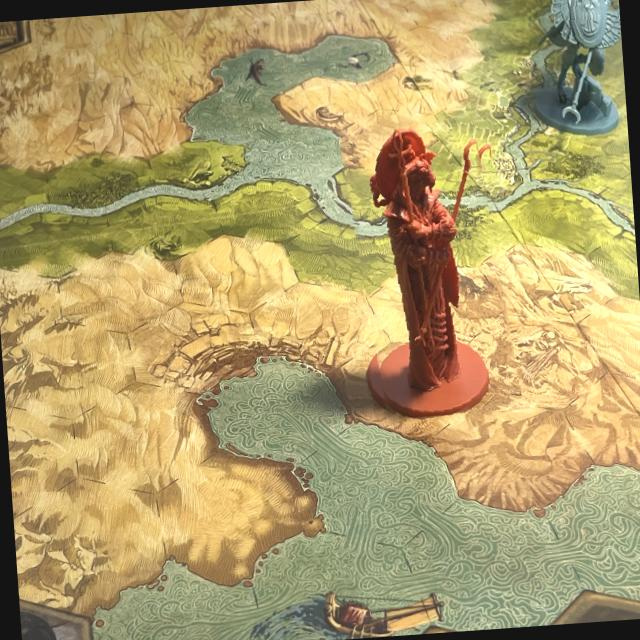amon: (346, 115, 516, 423)
isis: (521, 0, 629, 159)
